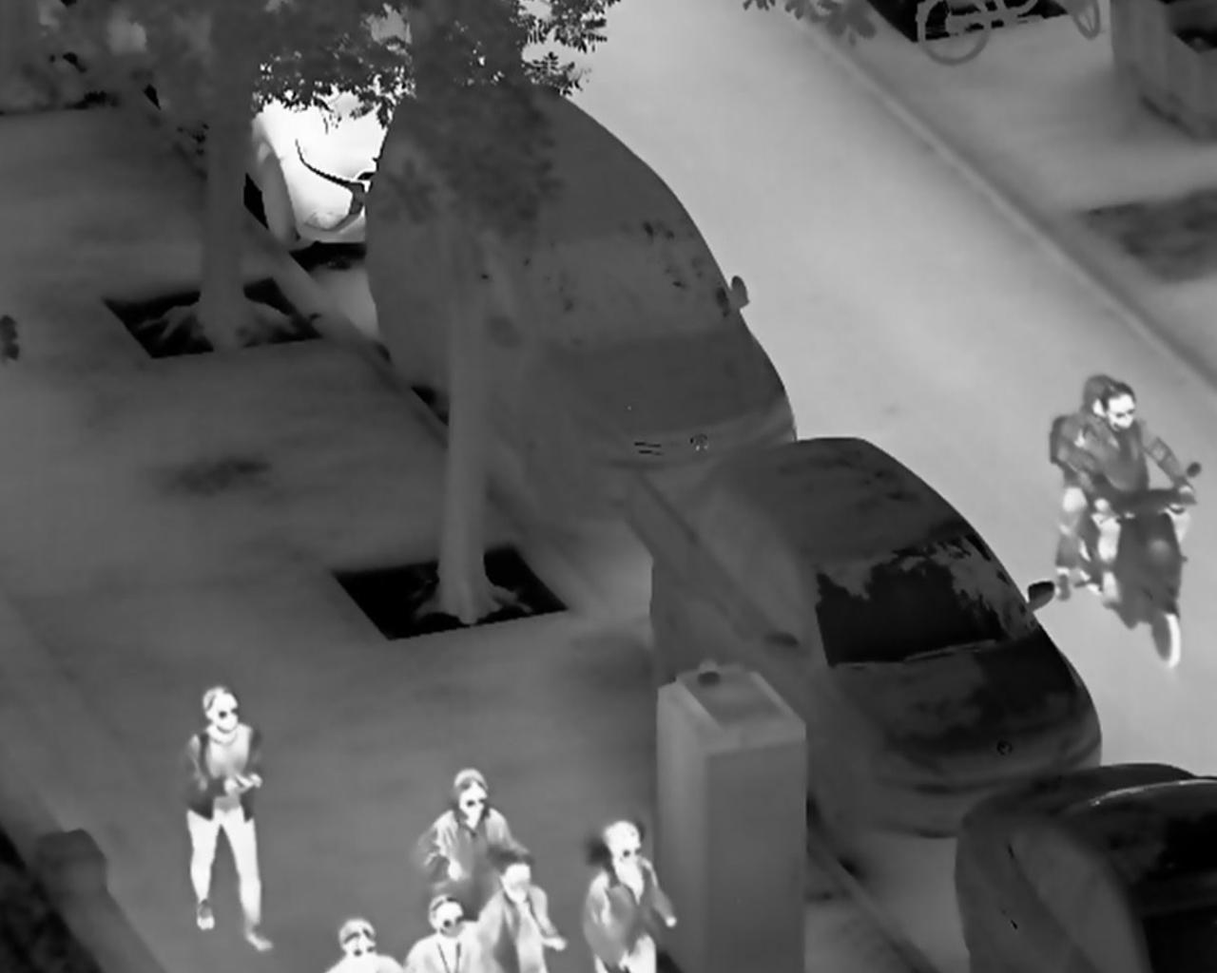person: (1063, 385, 1198, 610), (179, 683, 278, 951), (409, 764, 534, 922), (576, 818, 679, 973), (1049, 372, 1116, 606), (476, 859, 560, 972), (400, 894, 484, 973)
